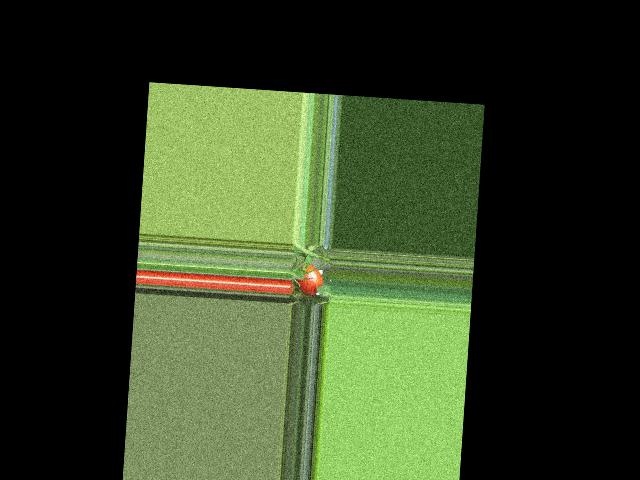tomato: (296, 264, 324, 296)
